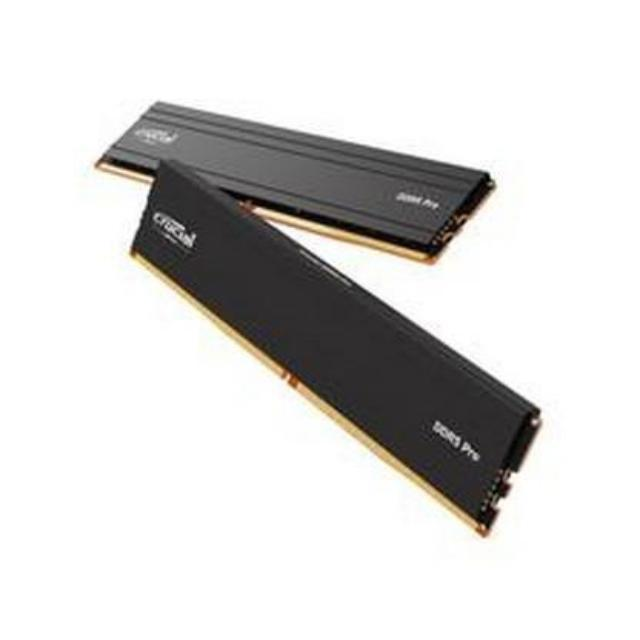RAM: (79, 84, 566, 556)
